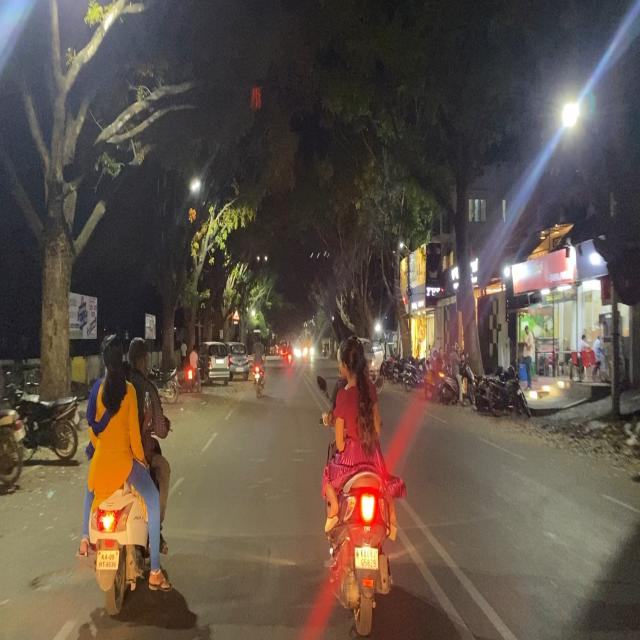bien_cam: (233, 307, 240, 322)
